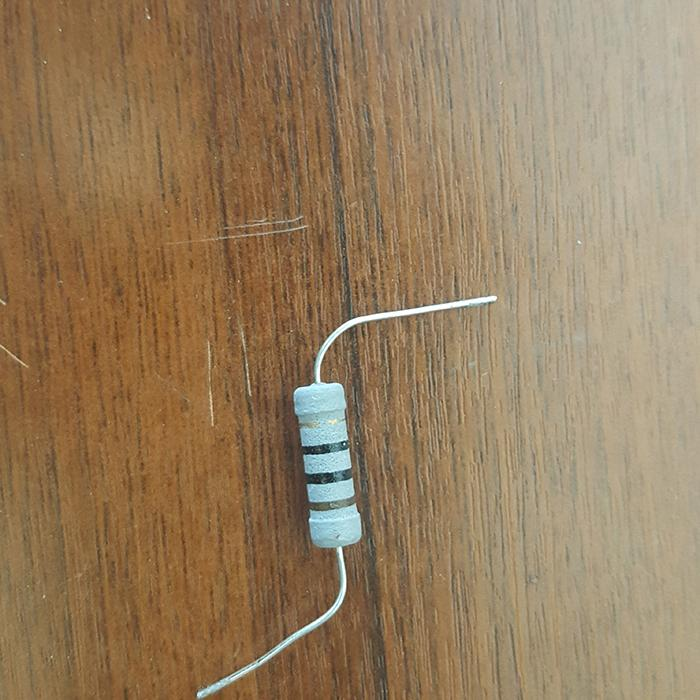resistor: (291, 381, 363, 550)
